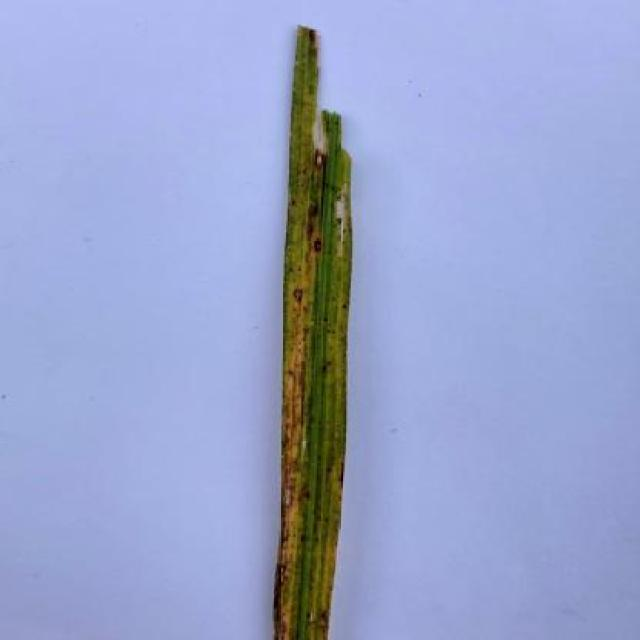Rice False Smut: (274, 0, 367, 635)
